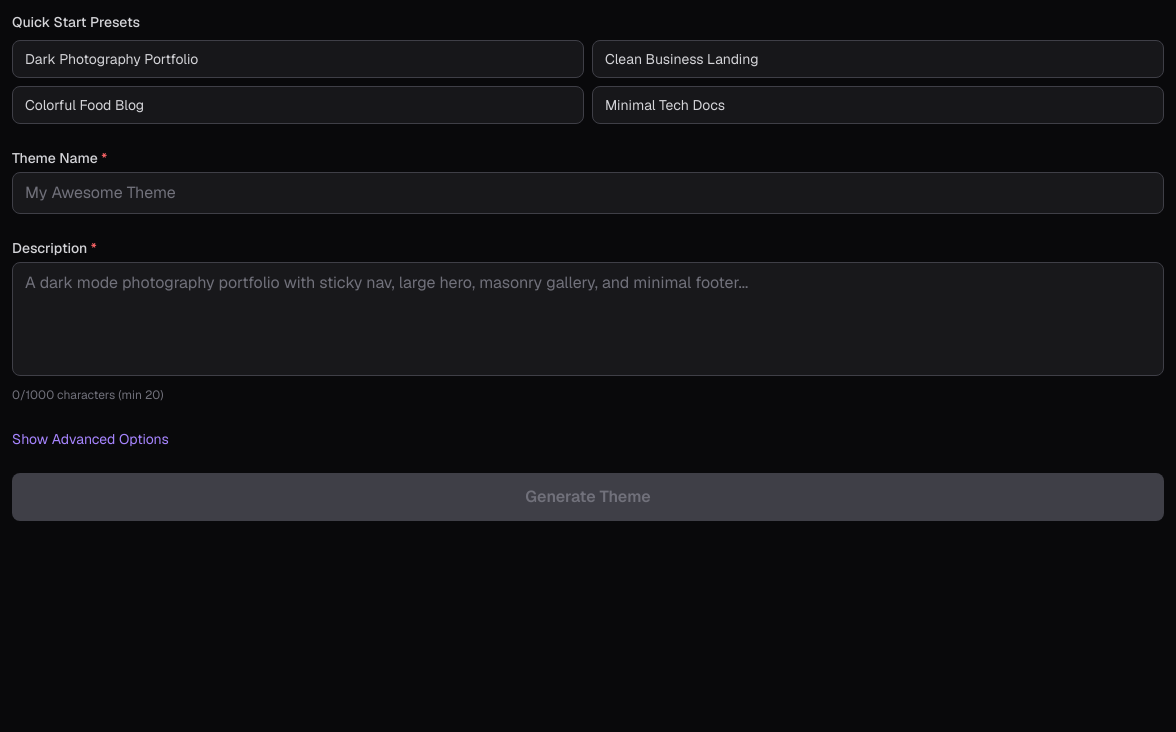
Scenario: ThemeForm › enables submit when name and description are valid
Step 1. Type "My Theme" into the field labelled "Theme Name *" → [588, 193], box top-left (12, 172), bottom-right (1164, 214)
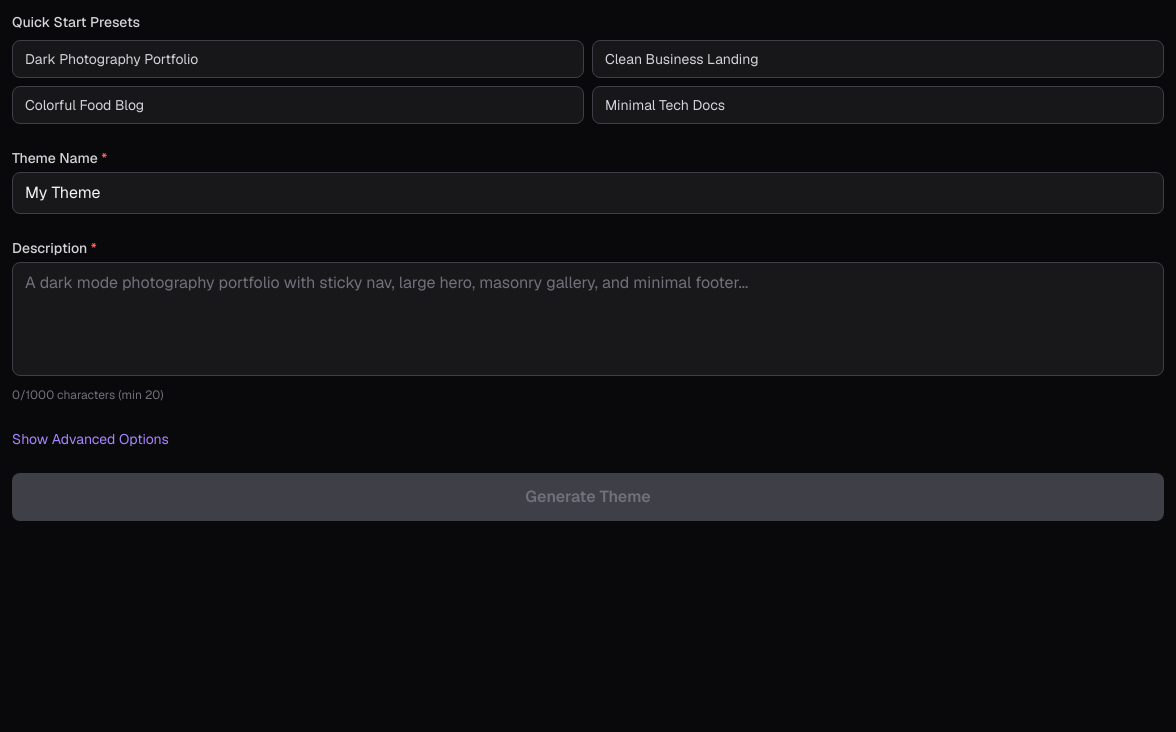
Step 2. Replace the text in the text box labelled "Description *" with "A beautiful dark theme for photographers with gallery" → [588, 319], box top-left (12, 262), bottom-right (1164, 376)
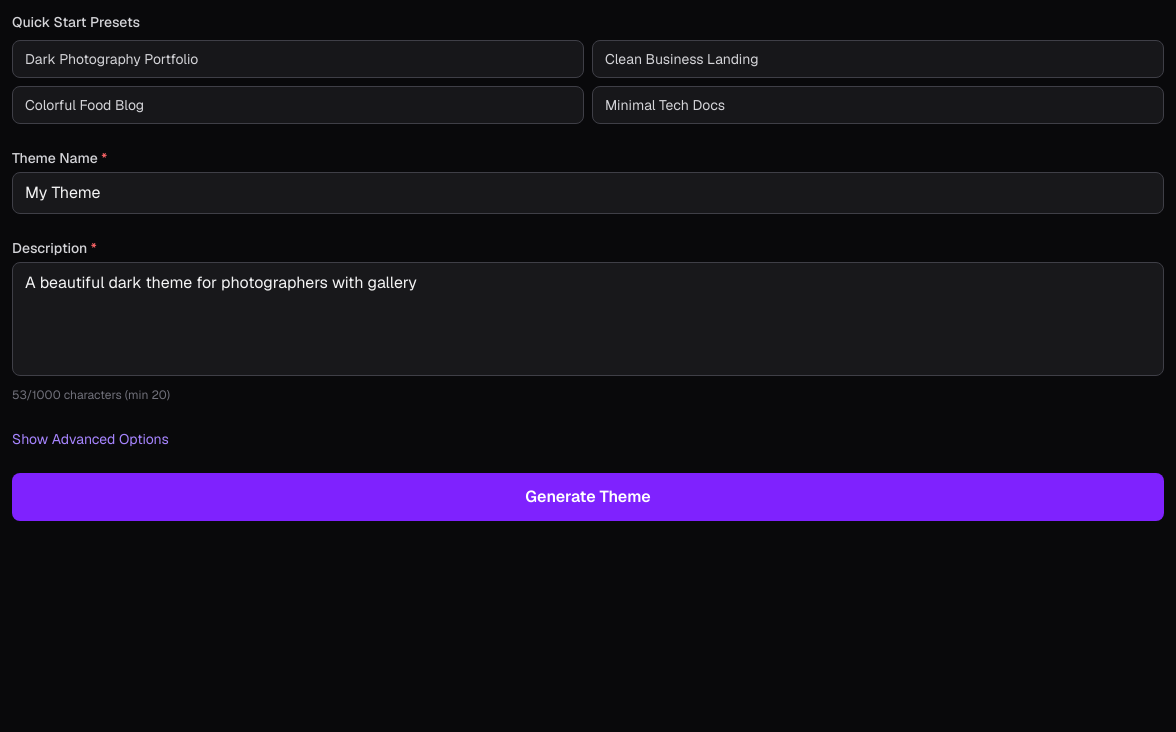
Result: the button "Generate Theme" is enabled at top-left (12, 473), bottom-right (1164, 521)
